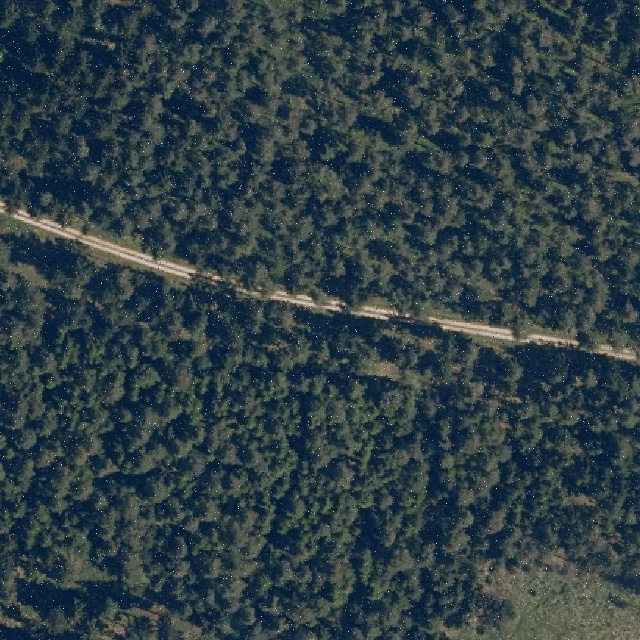vegetation: (0, 214, 640, 640)
